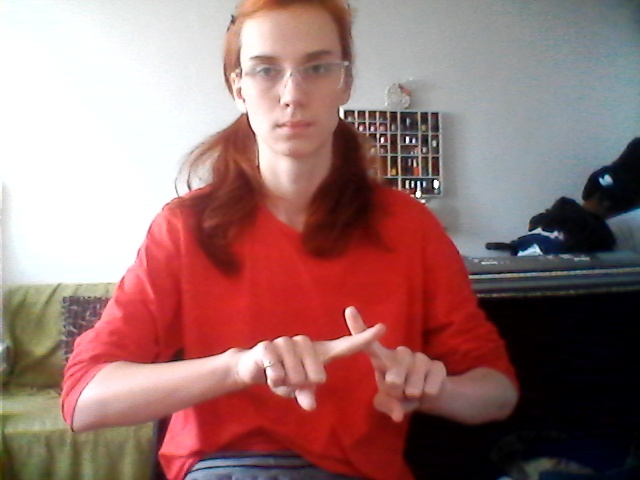x: (238, 292, 433, 443)
